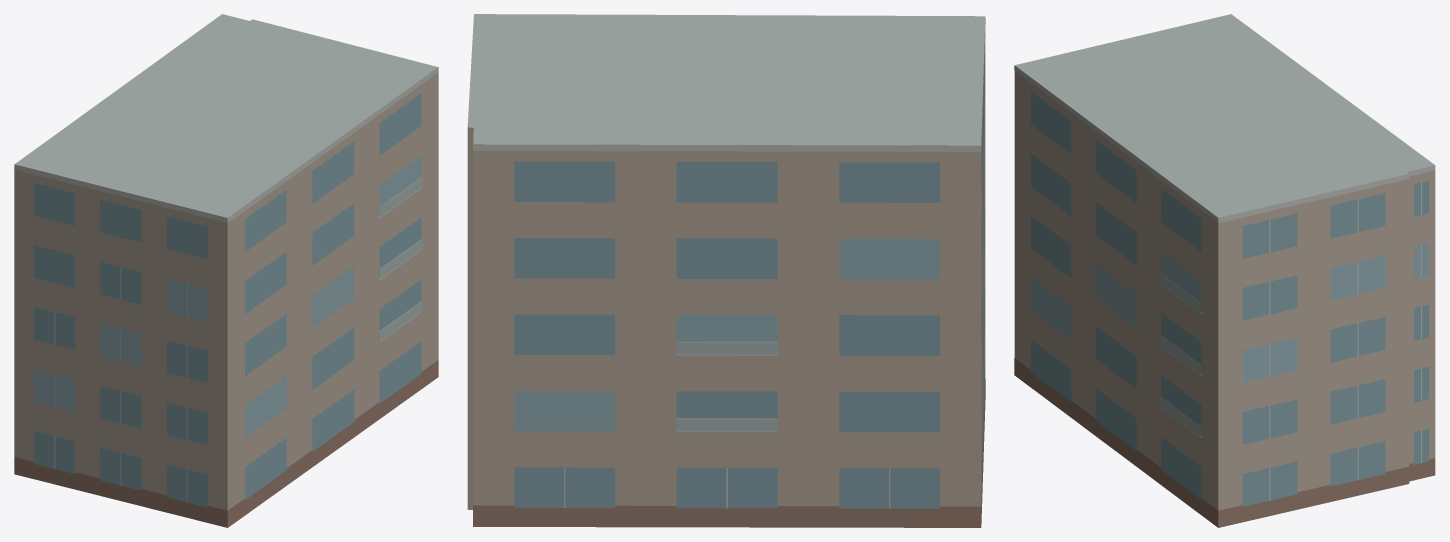
File: survey-upis-32968431.glb
3 renders of one model, left to right at view 1: azimuth 30°, elevation 25°; view 2: azimuth 150°, elevation 25°; view 3: azimuth 270°, elevation 25°, orthographic. The views are drawn at different scales.
Visible parts, largest first — view 1: survey-upis-32968431.tmp; view 2: survey-upis-32968431.tmp; view 3: survey-upis-32968431.tmp.
Part boxes in pixels (x1=…): survey-upis-32968431.tmp: x1=14, y1=14, x2=438, y2=527; survey-upis-32968431.tmp: x1=467, y1=14, x2=985, y2=527; survey-upis-32968431.tmp: x1=1014, y1=14, x2=1435, y2=527.
Bounding box in the file's own units: 20.31 × 14.4 × 17.72.
